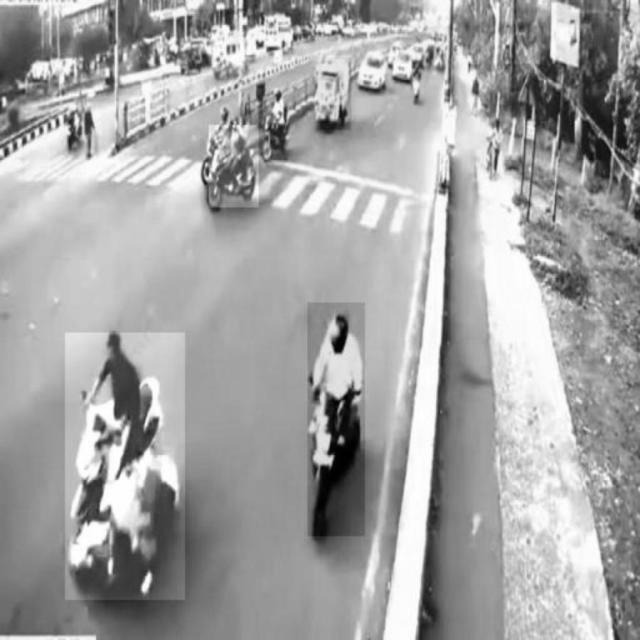accident: (66, 333, 186, 601)
vehicle: (308, 303, 365, 536), (210, 125, 260, 207), (316, 58, 351, 130)
